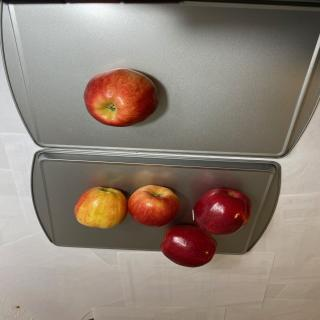Apple: (84, 68, 158, 127), (192, 188, 252, 235), (160, 224, 217, 268), (74, 186, 128, 229), (127, 185, 180, 227)
